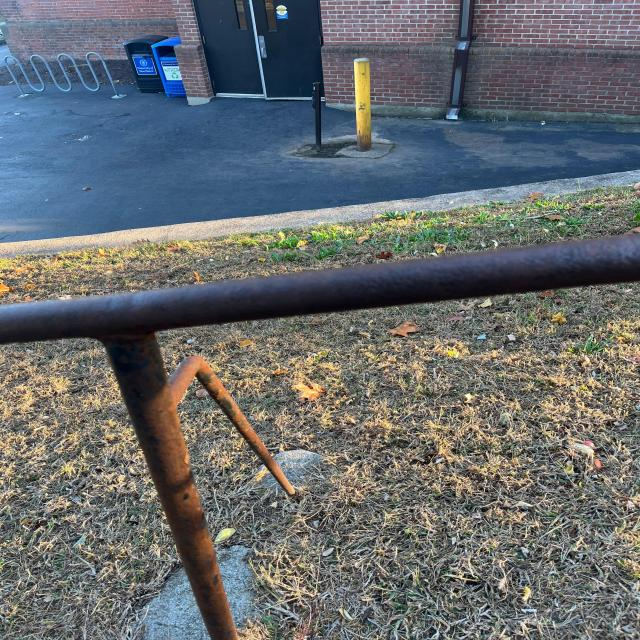Uniform Corrosion: (1, 237, 640, 640)
